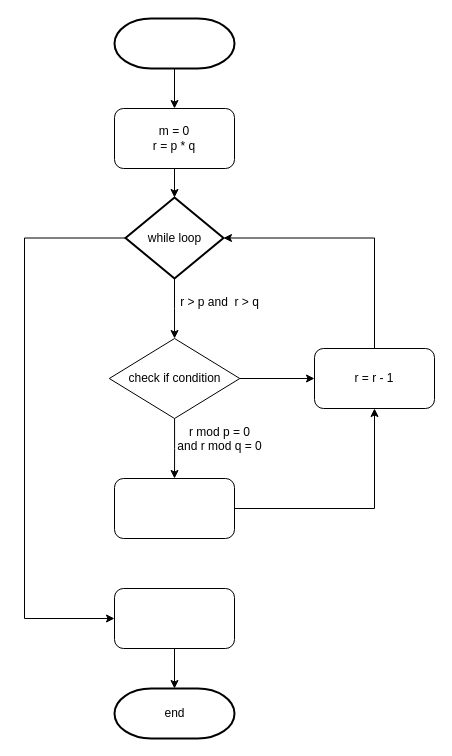
Some shapes in this 452 by 756 pixel diagram are drawn without their labels. The shapes that lost their labels are listed below. From the top down, each one's centre as x and y in pixels, then its label:
At [174,43]: "call lcm_faulty(p, q)".
At [174,508]: "m = r".
At [174,618]: "return m".
